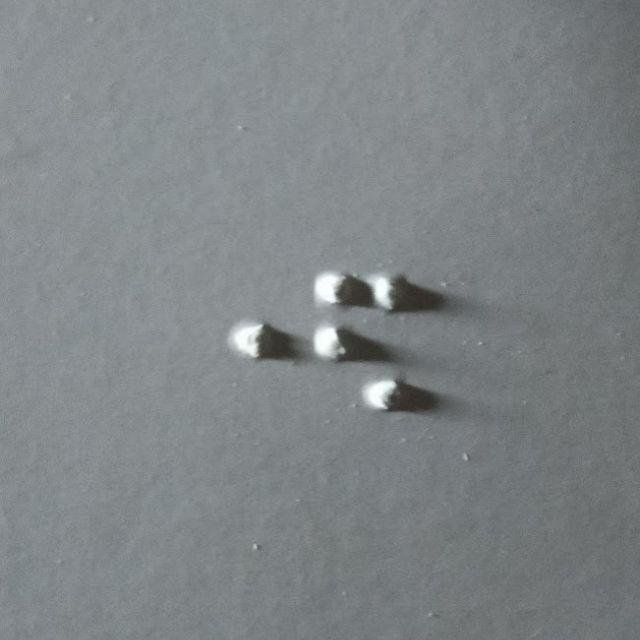dot_5: (184, 274, 275, 413)
nawa: (315, 273, 409, 412)
